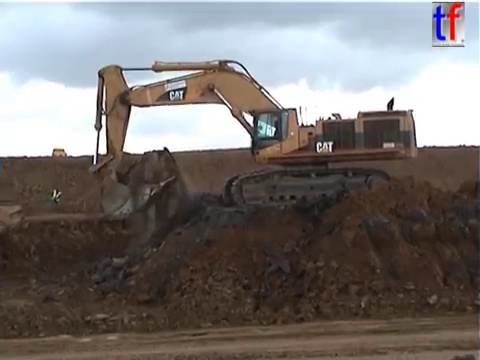excavator: (86, 56, 419, 223)
truck: (1, 196, 31, 238), (49, 146, 67, 162)
worker: (48, 184, 64, 214)
